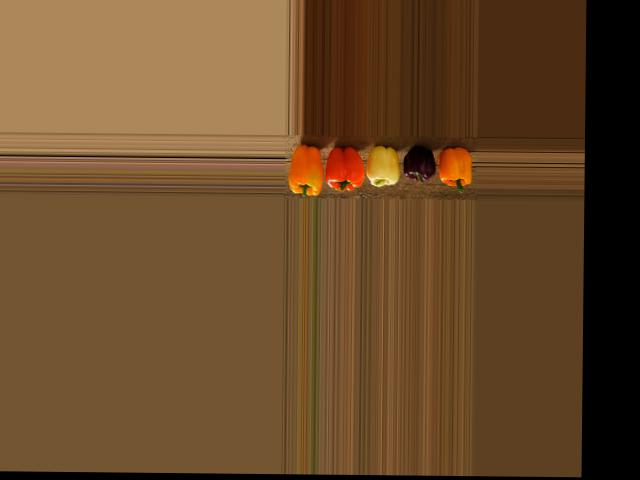bell_pepper: (441, 138, 475, 194)
